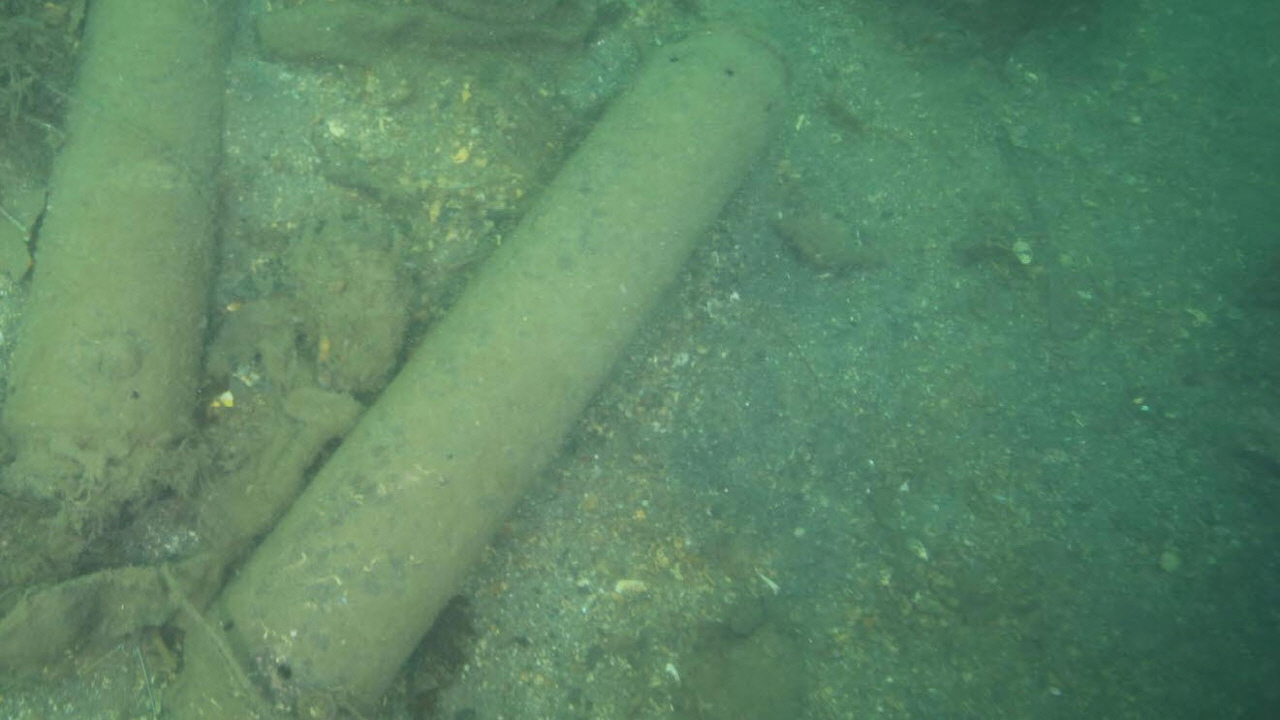bundle of ropes: (30, 541, 286, 716)
eel fish trap: (164, 20, 797, 720), (3, 0, 230, 489)
